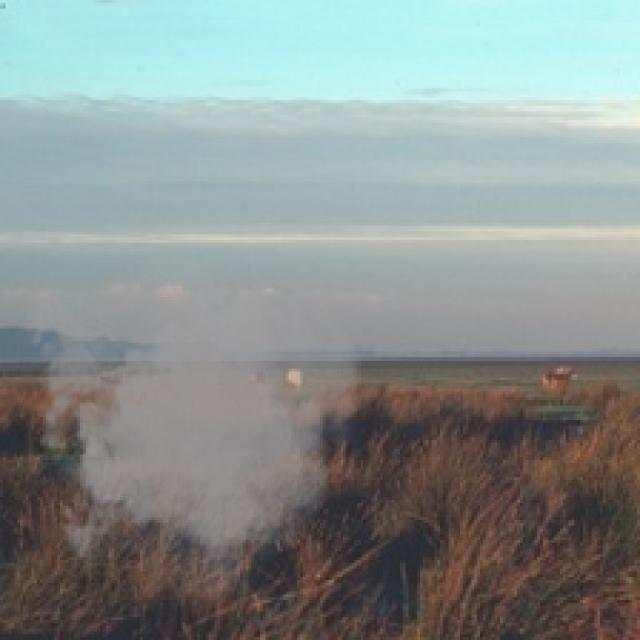smoke: (20, 237, 366, 614)
